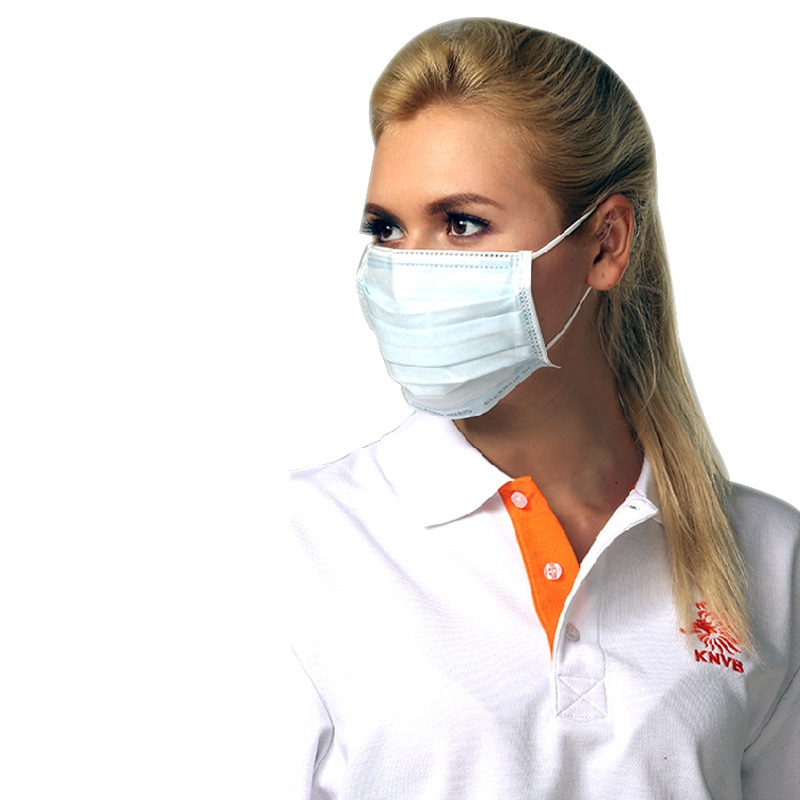face_mask: (363, 101, 576, 408)
